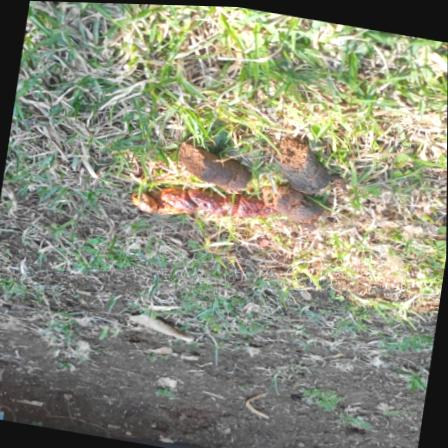dog-poop: (135, 177, 325, 246), (260, 128, 335, 200), (165, 141, 255, 192)
